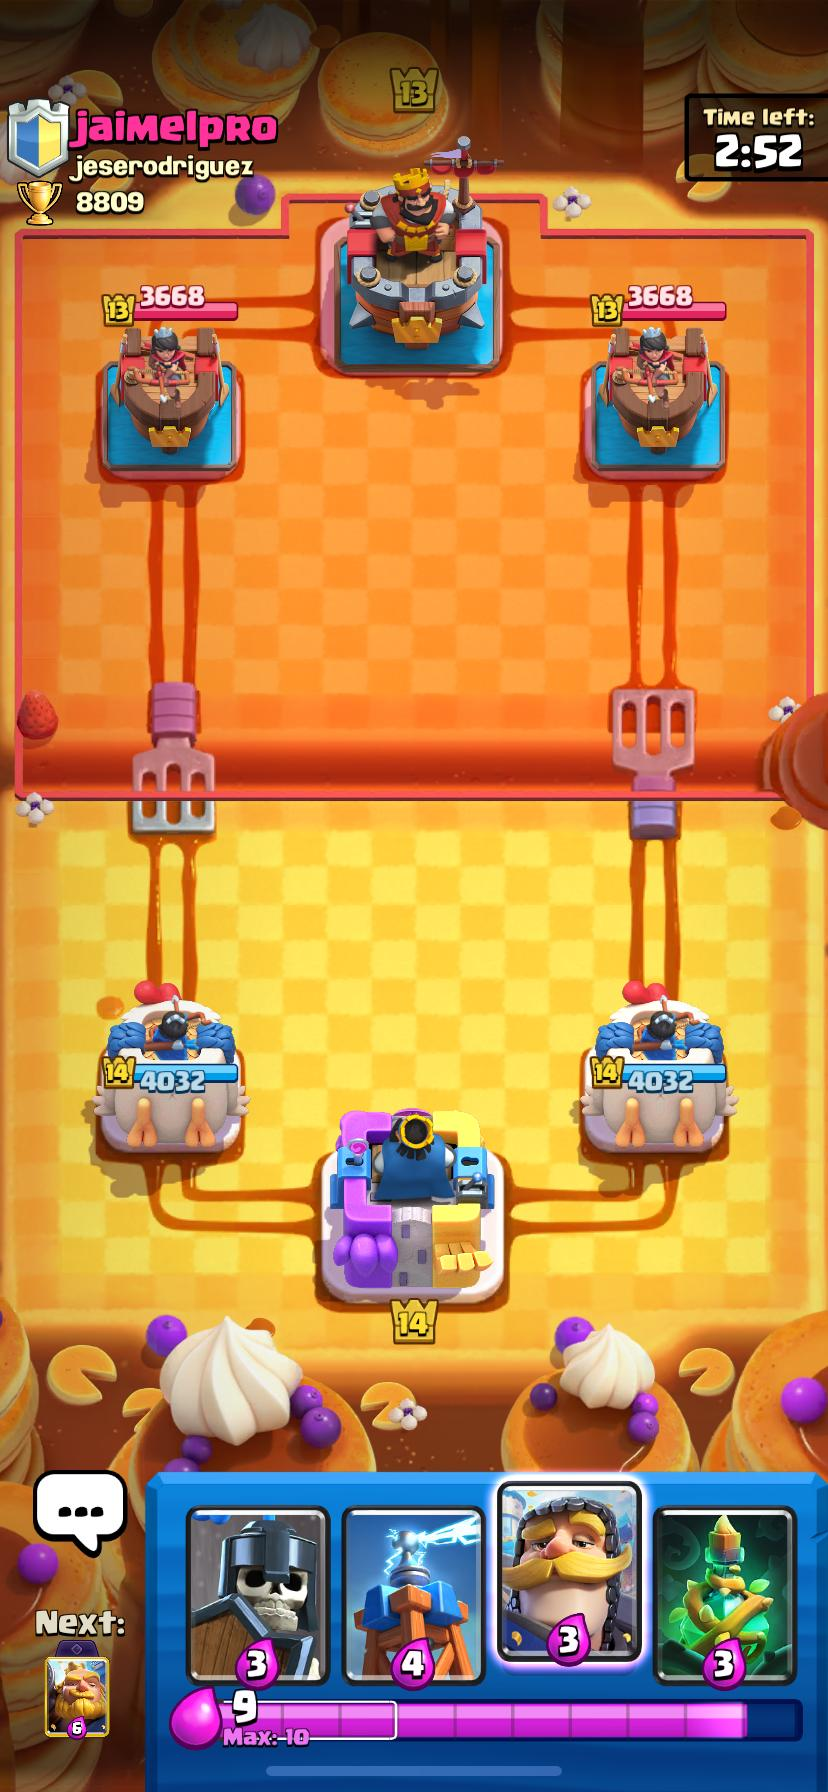EKingTower: (341, 141, 497, 365)
EnemyPrincessTower: (584, 326, 724, 479), (103, 325, 238, 472)
OwnKingTower: (321, 1109, 503, 1303)
OwnPrincessTower: (580, 982, 735, 1154), (93, 983, 248, 1153)
